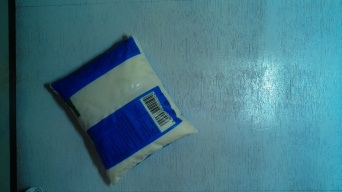m: (45, 32, 194, 183)
